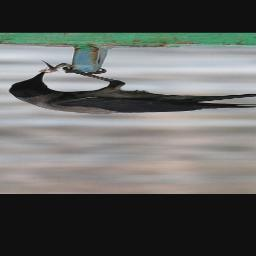Crow: (8, 67, 256, 115)
